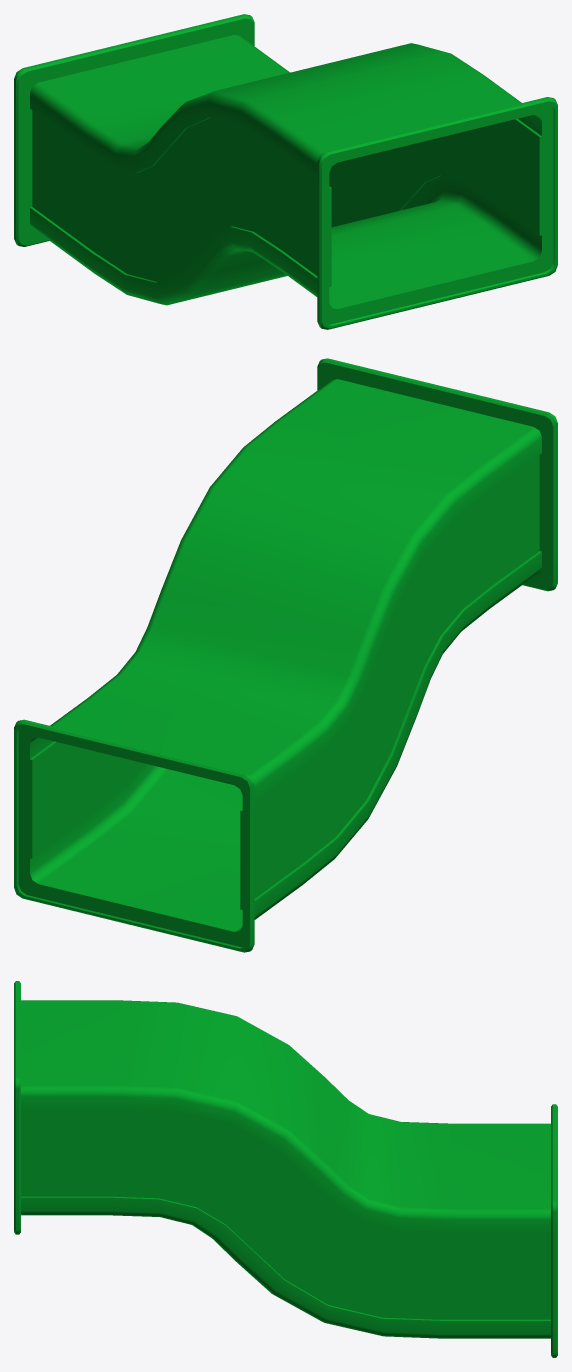
File: SM_vent_lift.fbx
The picture shows the model from 3 angles, top to bottom: view 1: azimuth 30°, elevation 25°; view 2: azimuth 150°, elevation 25°; view 3: azimuth 270°, elevation 25°; orthographic projection. The views are drawn at different scales.
Parts seen in each view (by area): view 1: SM_vent_lift; view 2: SM_vent_lift; view 3: SM_vent_lift.
Part boxes in pixels (left/top/right/bottom): SM_vent_lift: left=14, top=14, right=557, bottom=329; SM_vent_lift: left=14, top=358, right=557, bottom=952; SM_vent_lift: left=14, top=981, right=557, bottom=1357.
Size of the model in its own units: 0.4483 by 0.5685 by 1.
